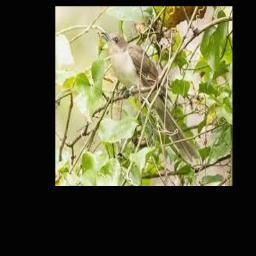Cuckoo: (102, 31, 200, 163)
